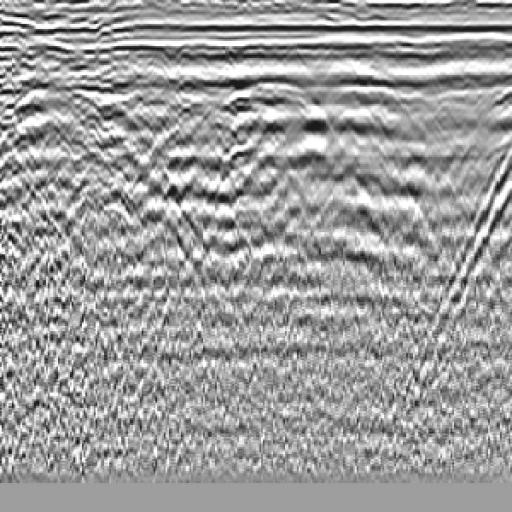metalic: (231, 59, 340, 154)
